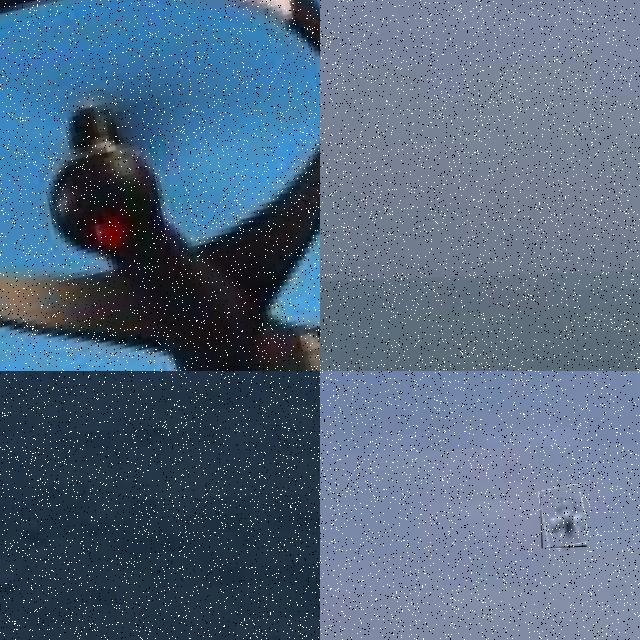drone: (0, 0, 320, 371), (539, 485, 586, 548)
